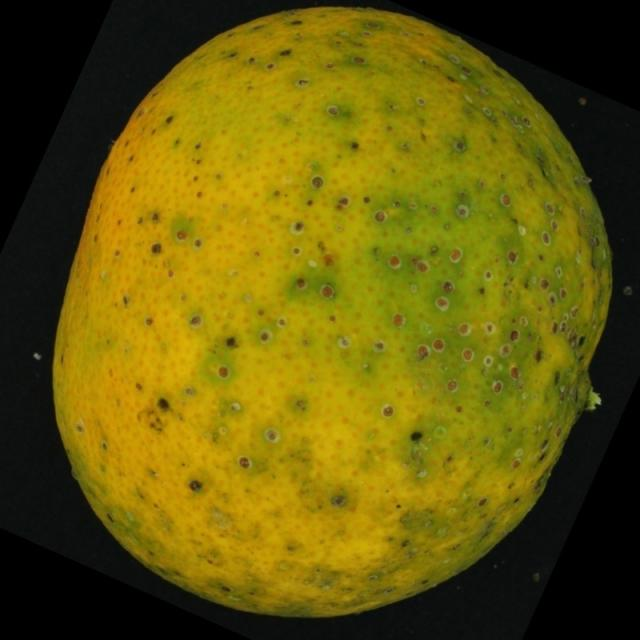grenning: (20, 4, 628, 624)
